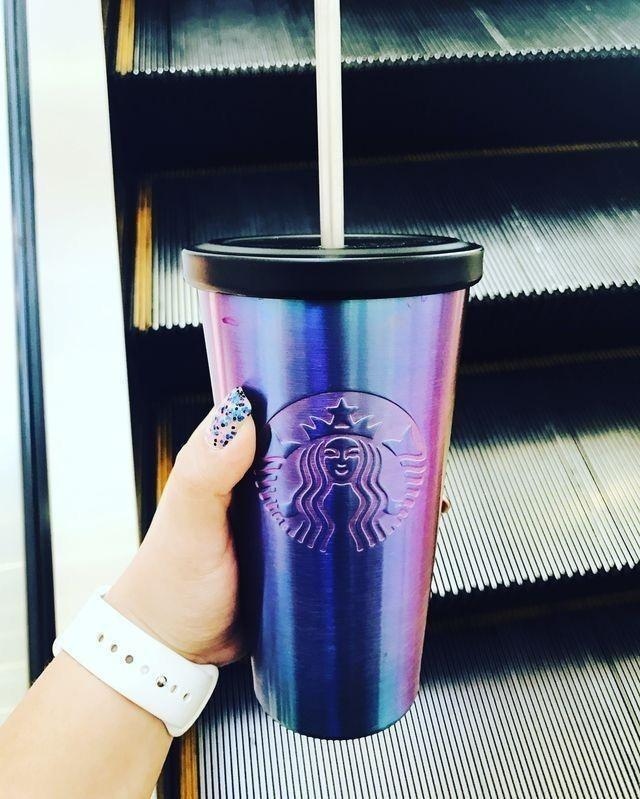cup-disposable: (181, 231, 487, 743)
